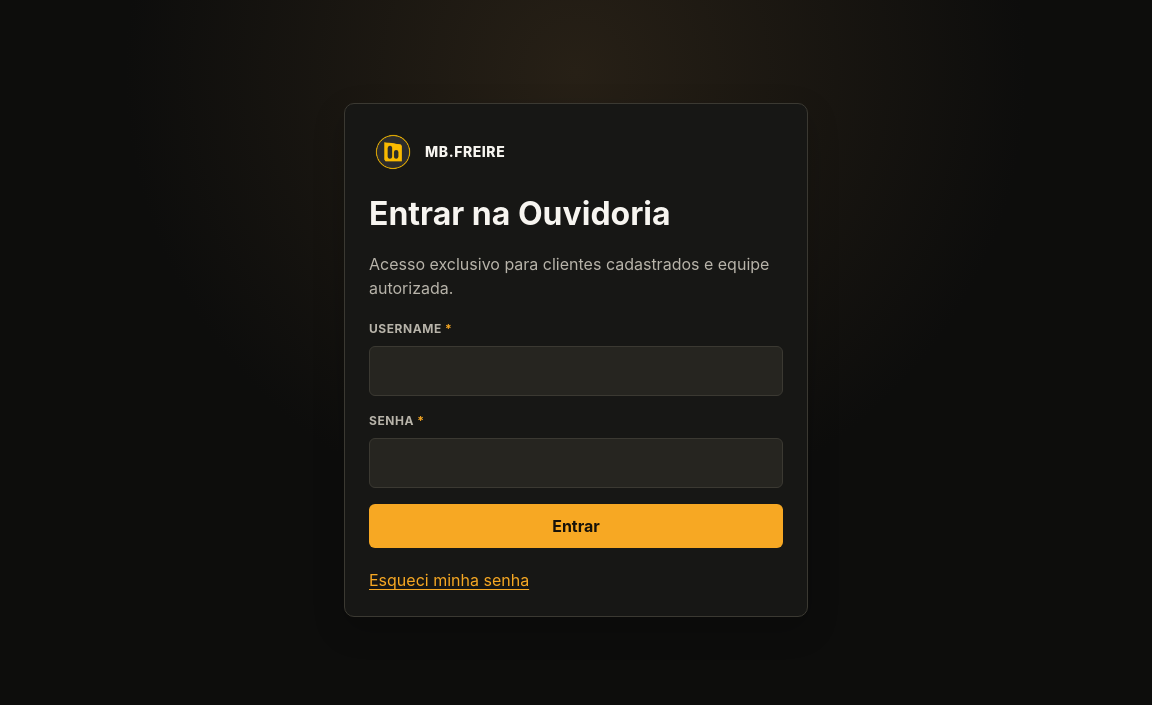
ativação exige confirmação, espera 204 e trata erro do servidor sem alterar a linha
The image size is (1152, 705).
Type "admin" into the field labelled "Username". click: x=576, y=371
box: [369,346,783,396]
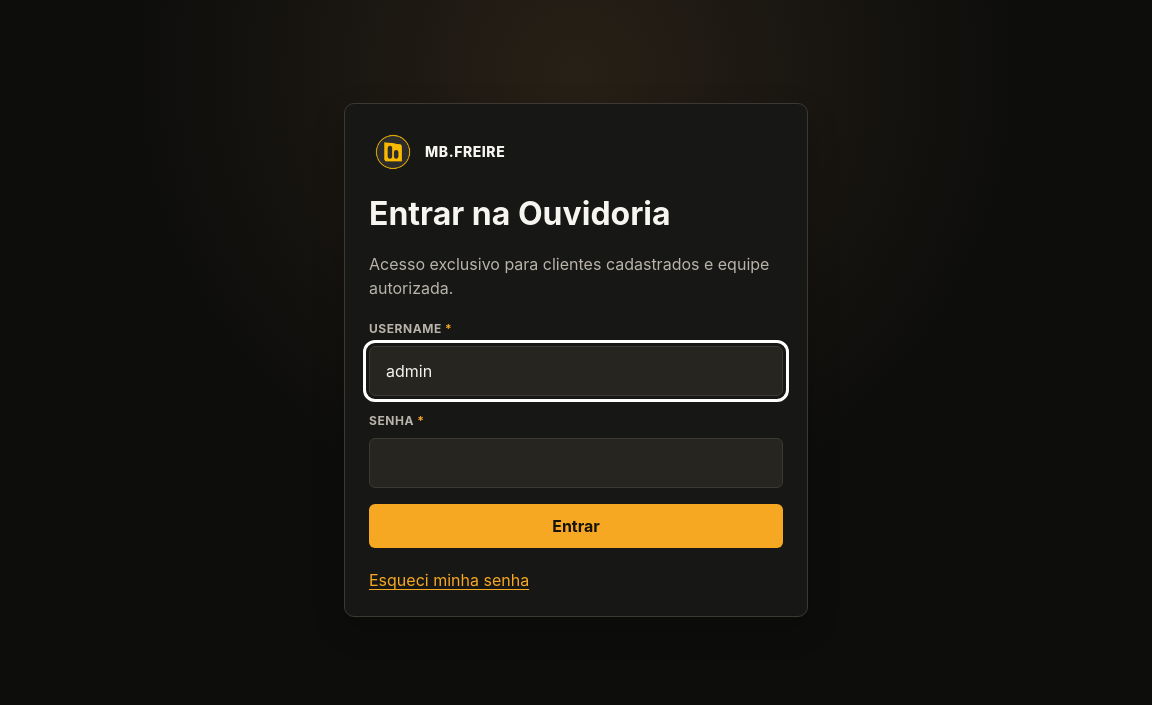
Type "senha-correta" into the password field labelled "Senha *". click: x=576, y=463
box: [369,438,783,488]
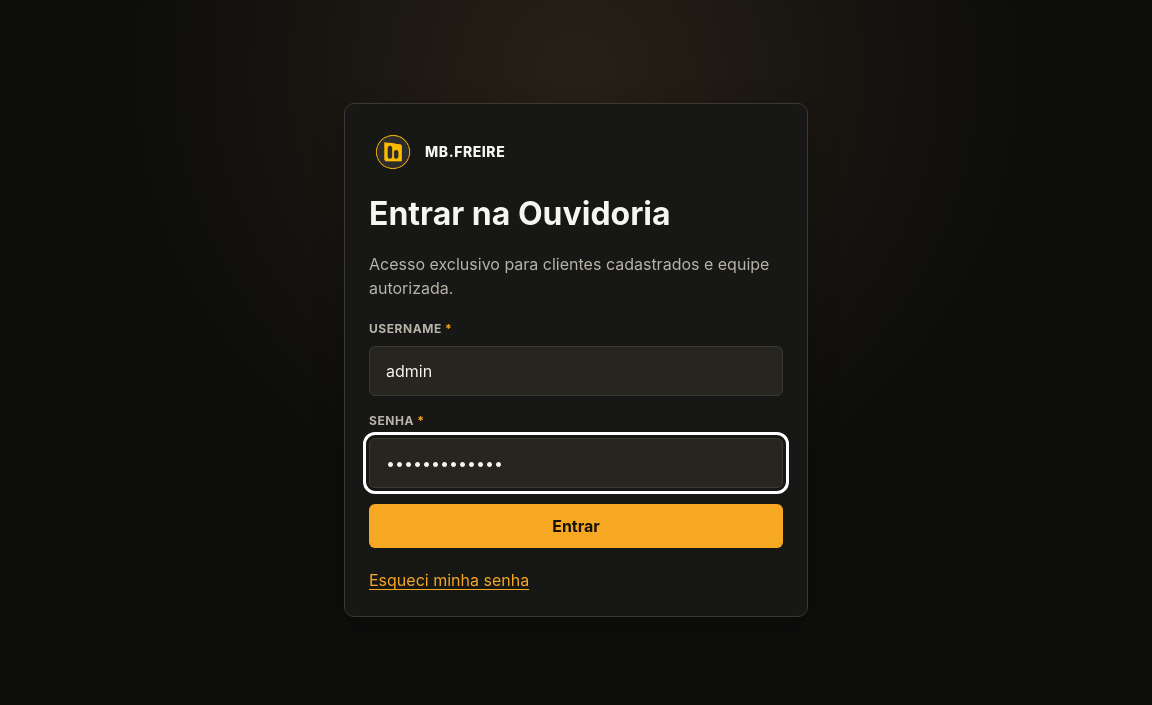
Click the button "Entrar". click: x=576, y=526
box: [369,504,783,548]
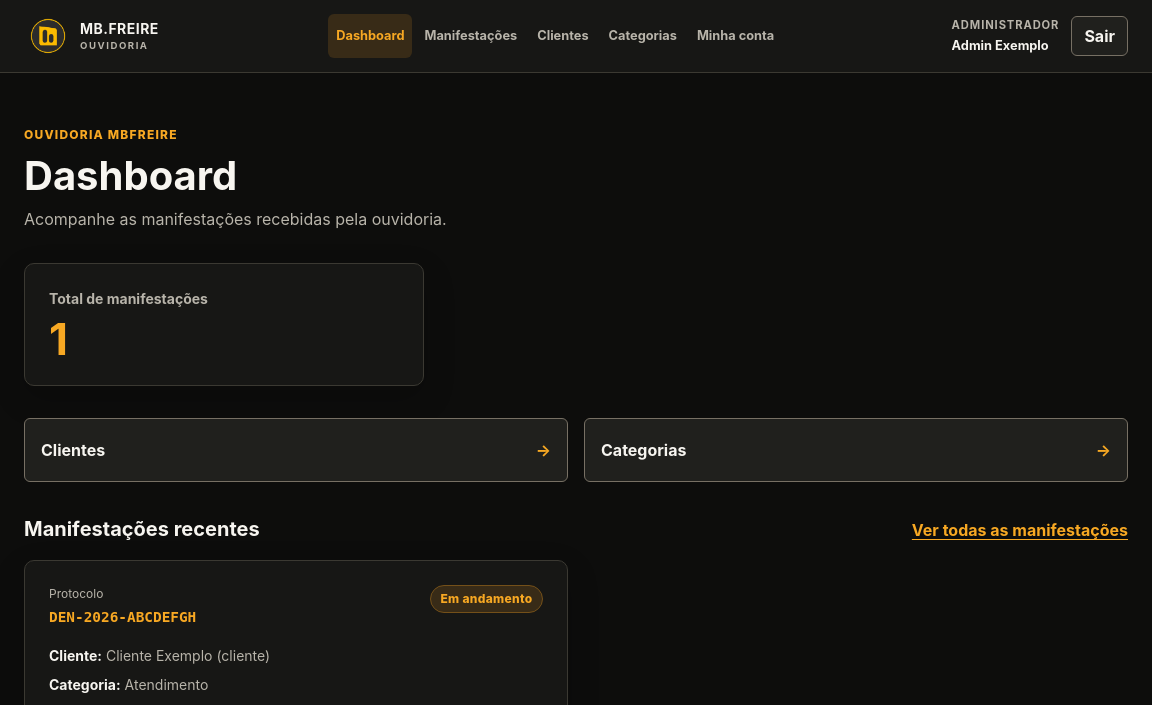
expect the heading "Dashboard" is shown: met, box [24,151,237,200]
Click the link to "/admin/clientes". click: x=73, y=450
box: [24,418,568,482]
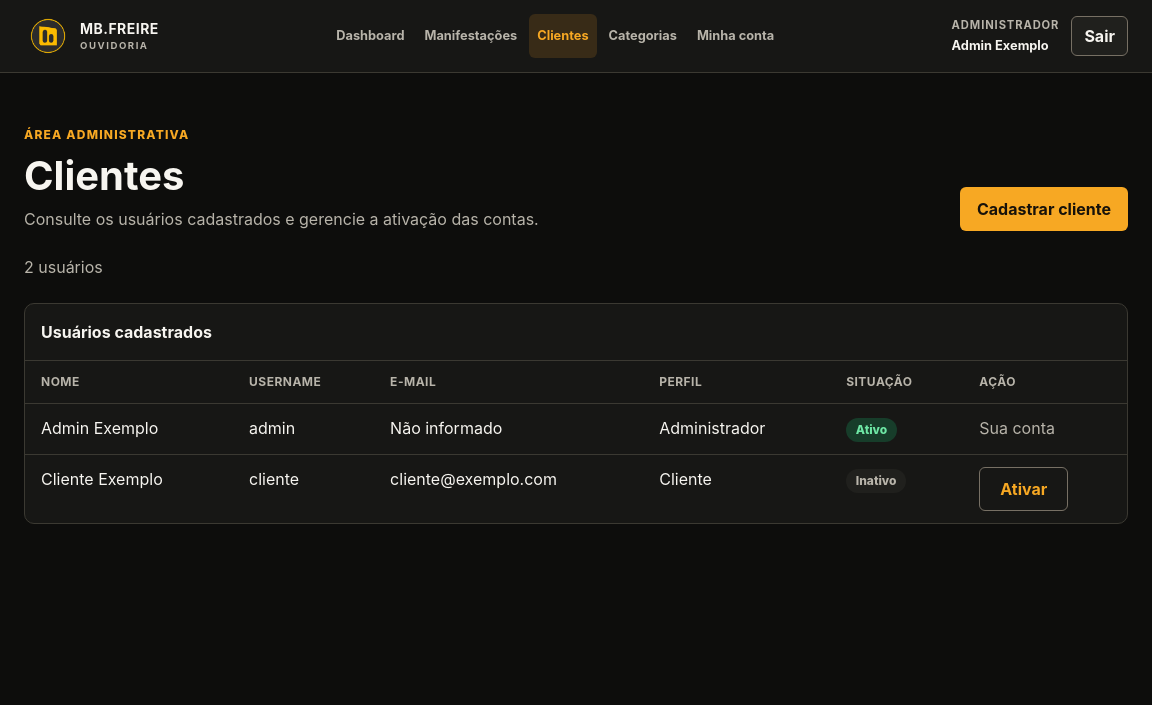
expect the heading "Clientes" is shown: met, box [24,151,184,200]
Click the button named "Ativar Cliente Exemplo". click: x=1024, y=489
box: [979,467,1068,511]
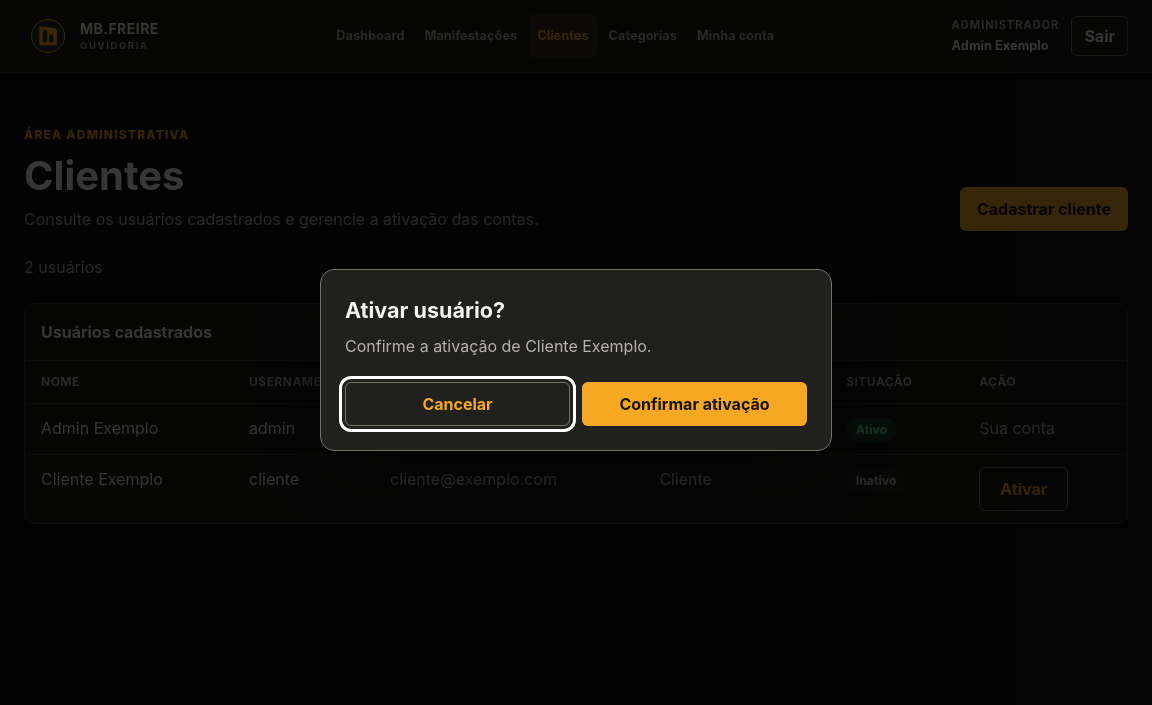
expect the dialog "Ativar usuário?" is shown: met, box [320,269,832,451]
Click the button "Confirmar ativação". click: x=694, y=404
box: [582,382,807,426]
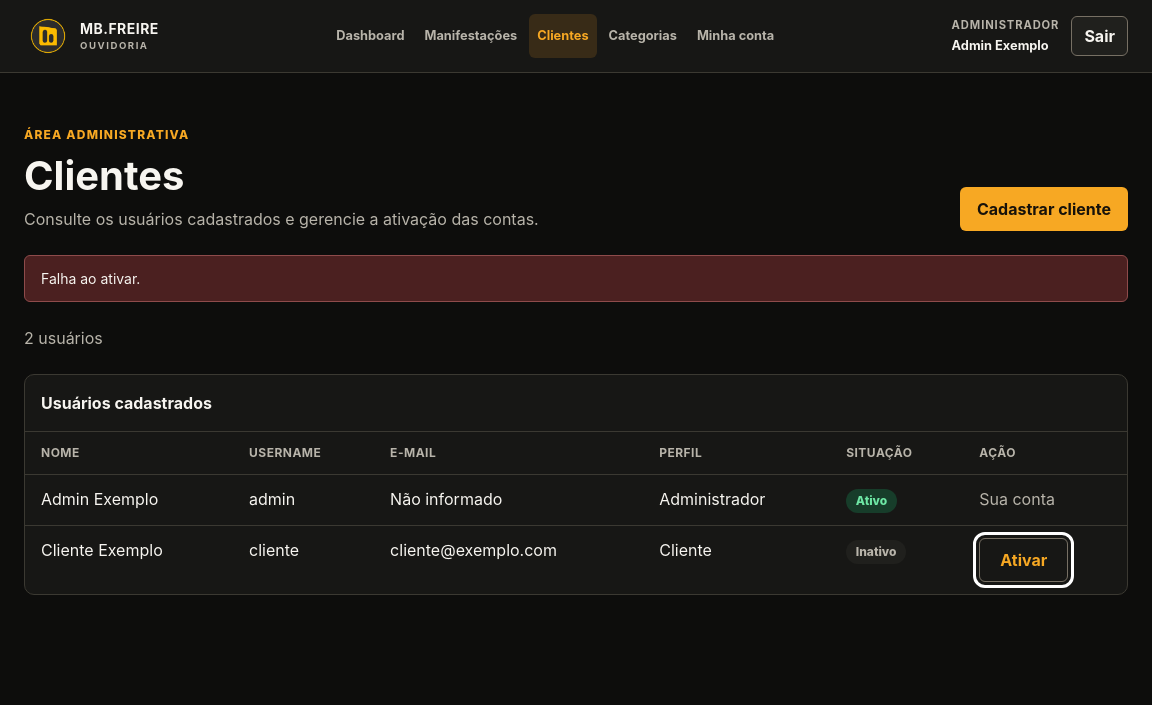
expect the button named "Ativar Cliente Exemplo" is enabled: met, box [979,538,1068,582]
expect the text "Falha ao ativar." is shown: met, box [41,270,140,287]
